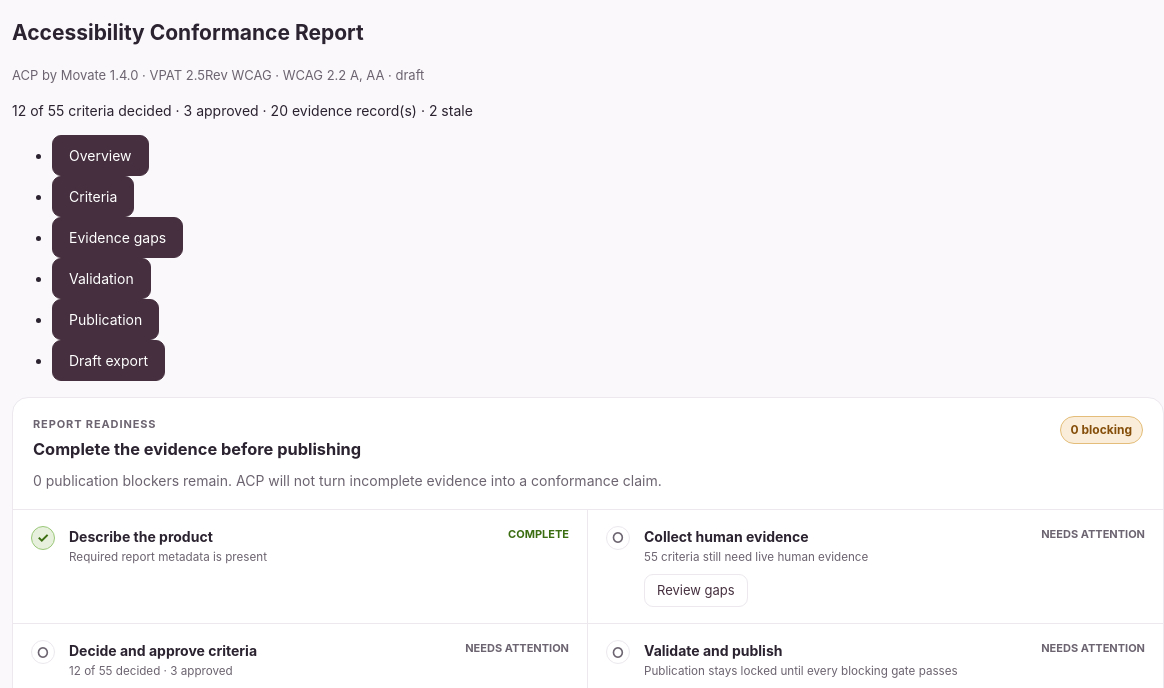
Test case: what the screen must not claim › shows an undecided criterion as not evaluated, never as a VPAT level
Click the button "Criteria": (93, 196) [52,176,134,217]
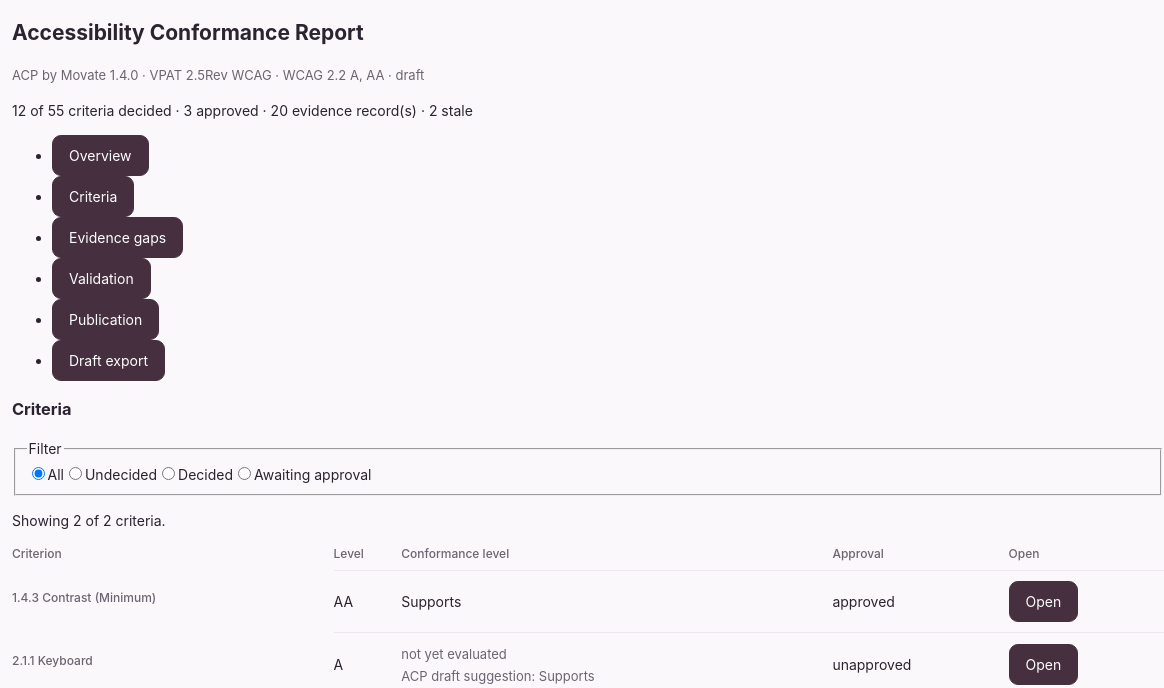
Expected: the text "not yet evaluated" is shown, [401,646,507,662]
